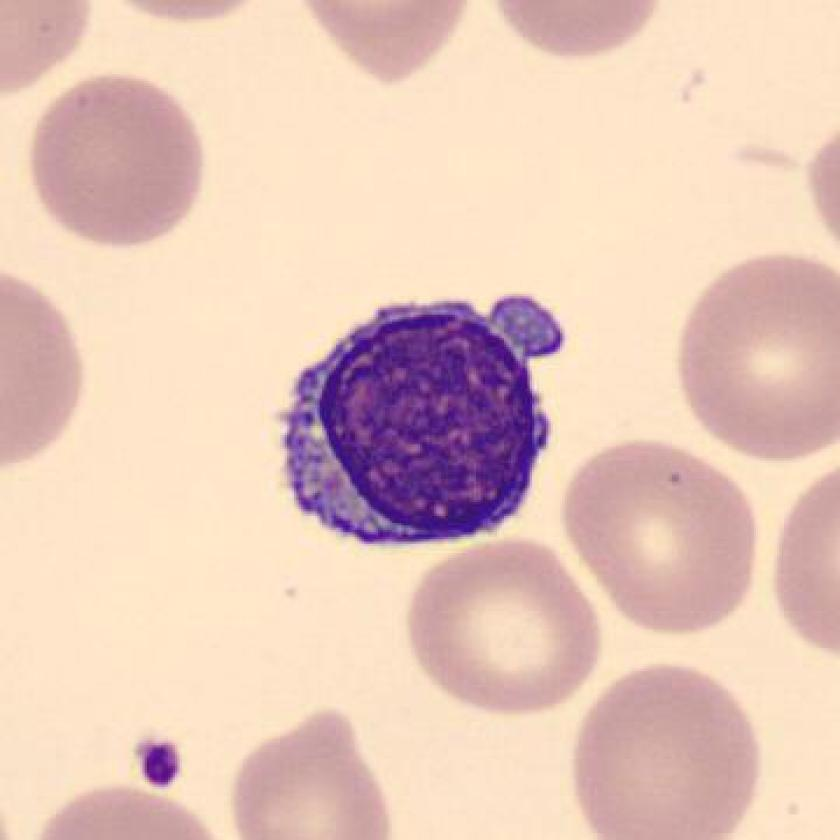lymphocyte: (265, 274, 584, 568)
